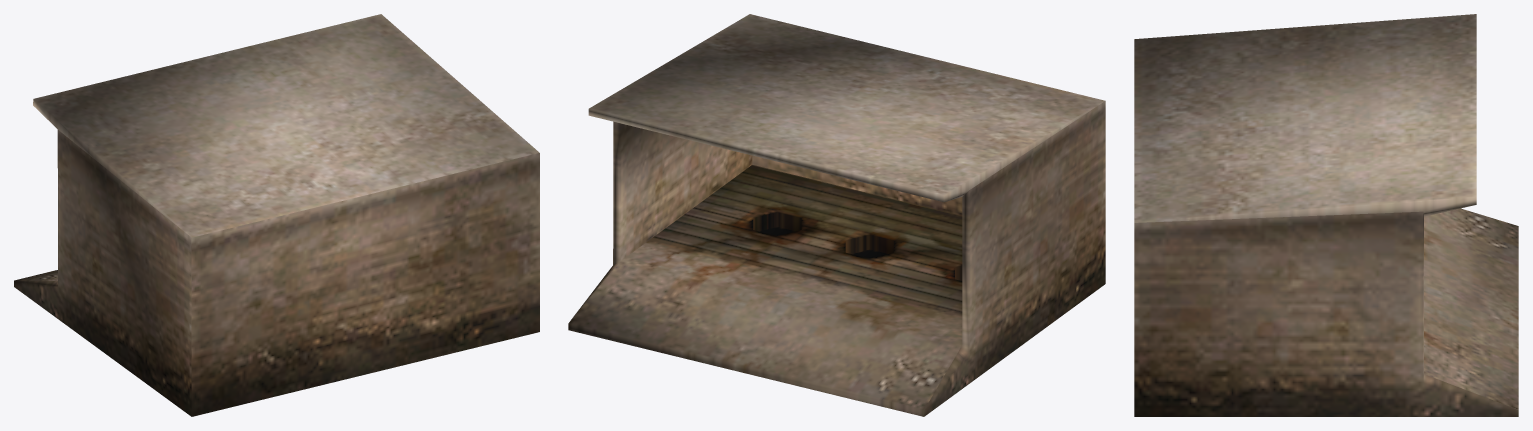
The model's file is stbuho52.dae.
The picture shows the model from 3 angles, left to right: view 1: azimuth 30°, elevation 25°; view 2: azimuth 150°, elevation 25°; view 3: azimuth 270°, elevation 25°; orthographic projection. The views are drawn at different scales.
Visible parts, largest first — view 1: sortir; view 2: sortir; view 3: sortir.
Part boxes in pixels (x1=…): sortir: x1=14, y1=14, x2=539, y2=416; sortir: x1=568, y1=14, x2=1105, y2=416; sortir: x1=1134, y1=14, x2=1518, y2=416.
Bounding box in the file's own units: 5.12 × 4.52 × 2.84.
Materials: 1 (1 with a texture image).
